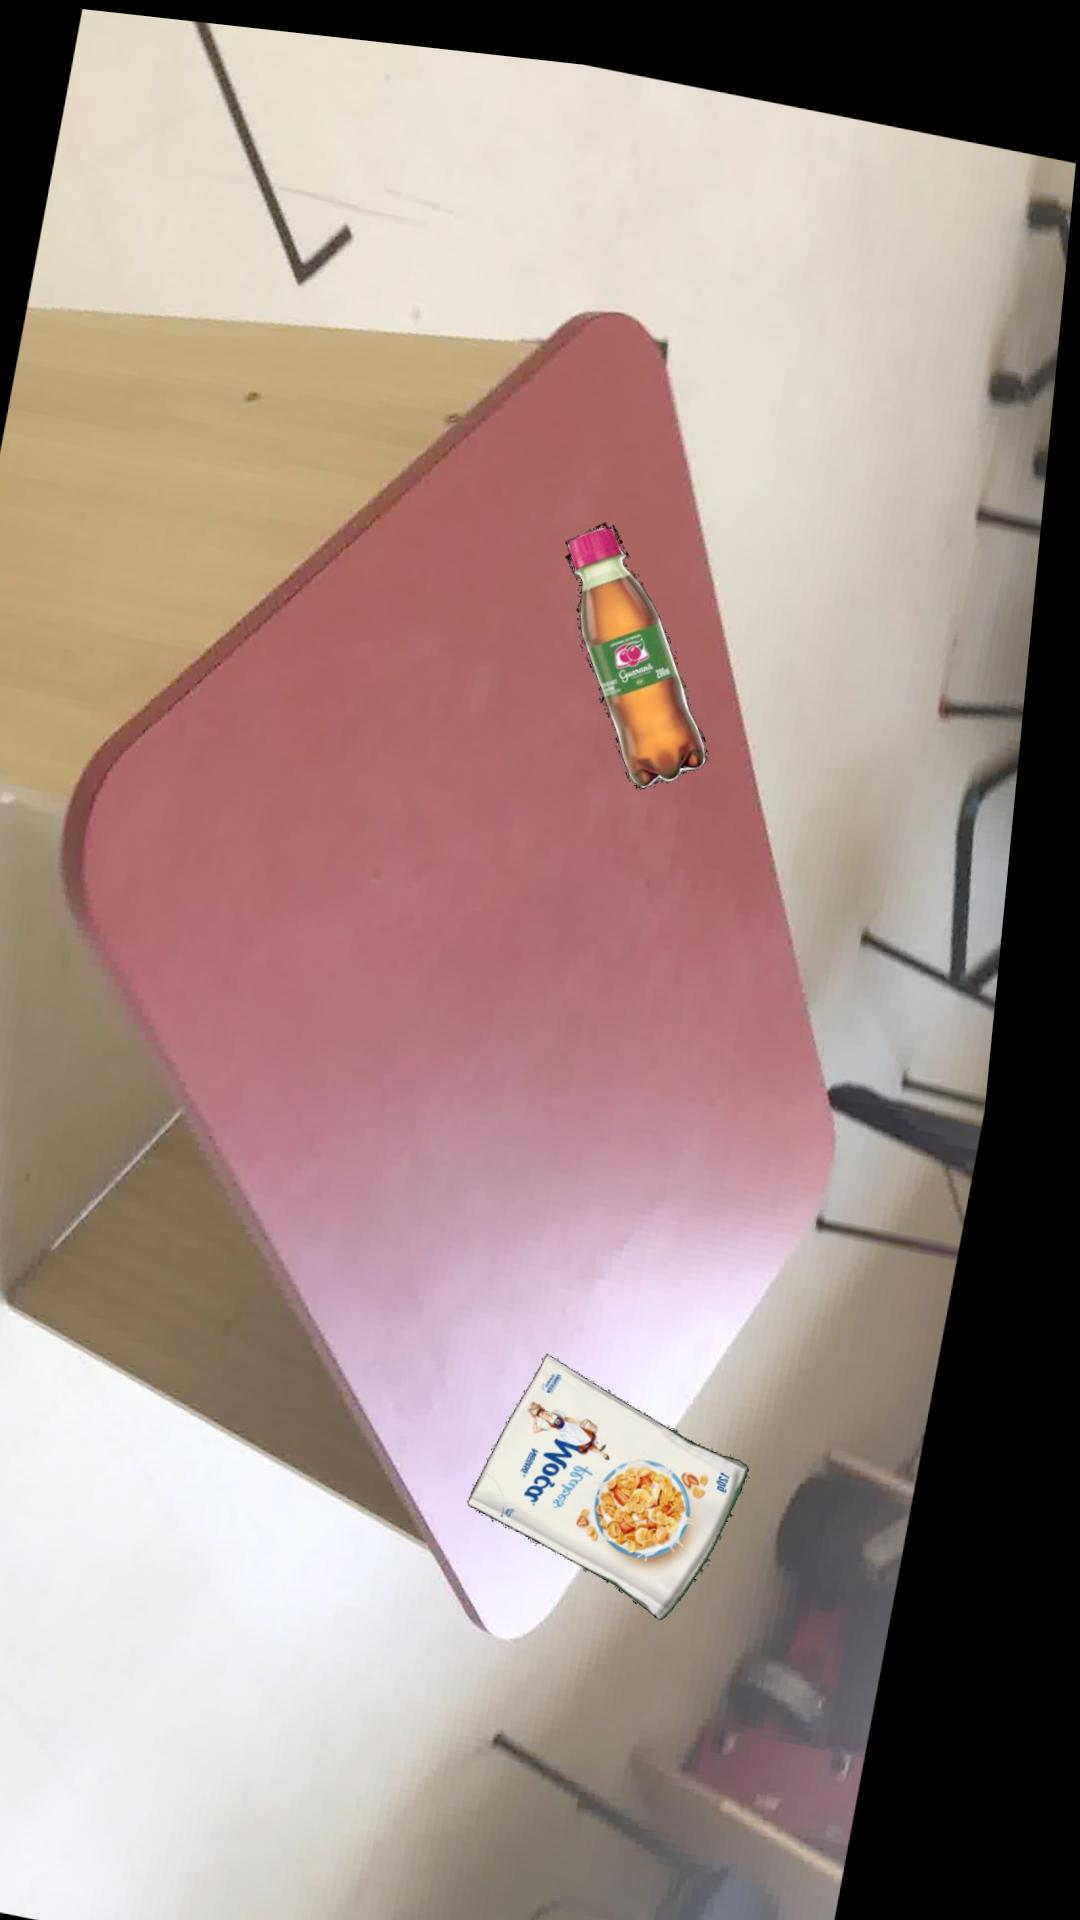corn flakes: (495, 1336, 774, 1600)
guarana: (574, 505, 719, 770)
